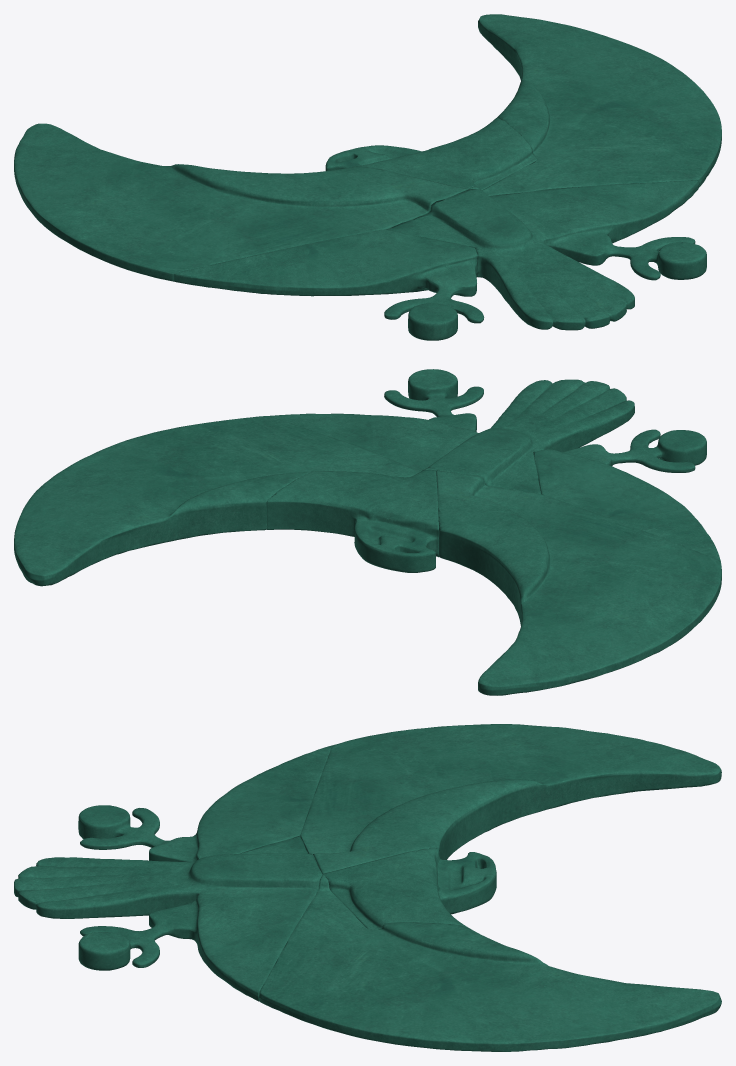
The model's file is full_eagle.fbx.
3 renders of one model, top to bottom at view 1: azimuth 30°, elevation 25°; view 2: azimuth 150°, elevation 25°; view 3: azimuth 270°, elevation 25°, orthographic. The views are drawn at different scales.
Visible parts, largest first — view 1: Eagle_04_high, Eagle_01_high, Eagle_03_high, Eagle_02_high, Eagle_05_high; view 2: Eagle_04_high, Eagle_01_high, Eagle_03_high, Eagle_05_high, Eagle_02_high; view 3: Eagle_01_high, Eagle_04_high, Eagle_03_high, Eagle_02_high, Eagle_05_high.
Part boxes in pixels (x1,y1,x2,y2): Eagle_04_high: [14, 123, 467, 281]; Eagle_01_high: [469, 14, 721, 195]; Eagle_03_high: [386, 180, 706, 330]; Eagle_02_high: [174, 229, 484, 340]; Eagle_05_high: [325, 117, 537, 190]; Eagle_04_high: [436, 470, 721, 695]; Eagle_01_high: [14, 416, 435, 586]; Eagle_03_high: [269, 369, 634, 494]; Eagle_05_high: [266, 469, 438, 572]; Eagle_02_high: [533, 429, 720, 561]; Eagle_01_high: [259, 874, 721, 1051]; Eagle_04_high: [300, 724, 721, 873]; Eagle_03_high: [14, 836, 322, 1001]; Eagle_02_high: [78, 745, 332, 862]; Eagle_05_high: [323, 847, 496, 929].
Size of the model in its own units: 1382 by 72.98 by 1295.
1 material, 1 textured.
